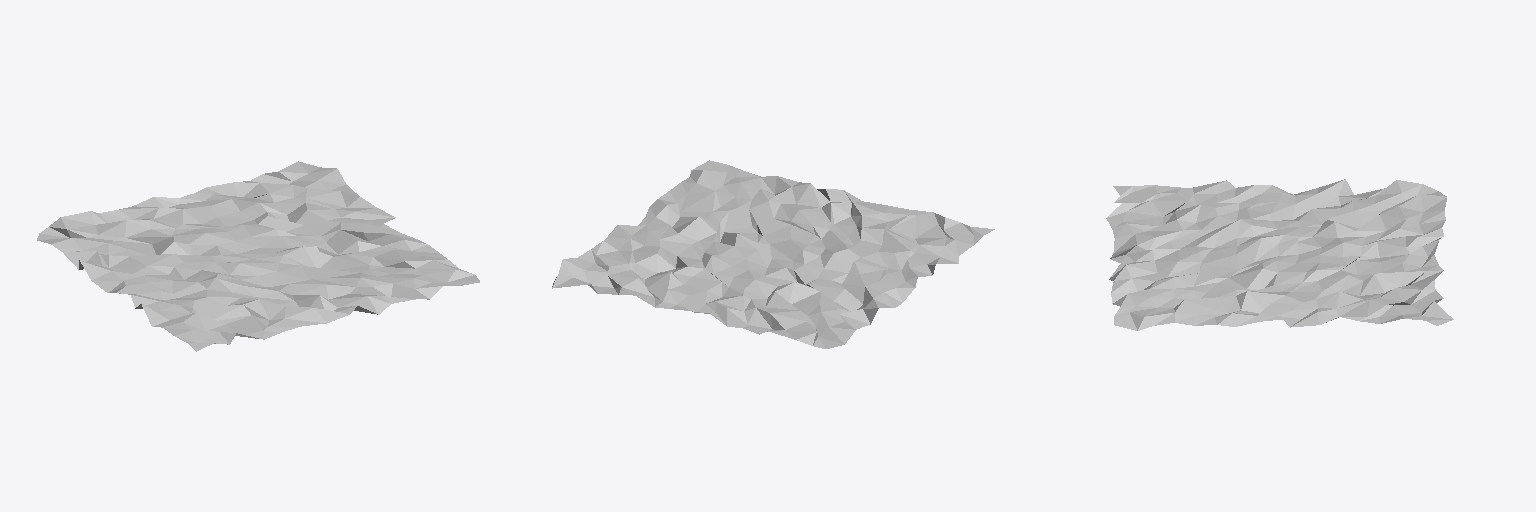
Rendered from rocky_terrain.obj.
3 views of the same model, side by side, from view 1: azimuth 30°, elevation 25°; view 2: azimuth 150°, elevation 25°; view 3: azimuth 270°, elevation 25° (orthographic).
Visible parts, largest first — view 1: Plane; view 2: Plane; view 3: Plane.
Boxes of the visible parts, <box> form: Plane: <box>37,161,479,351</box>; Plane: <box>552,160,994,348</box>; Plane: <box>1106,179,1453,330</box>.
Size of the model in its own units: 10.4 by 0.5223 by 10.57.